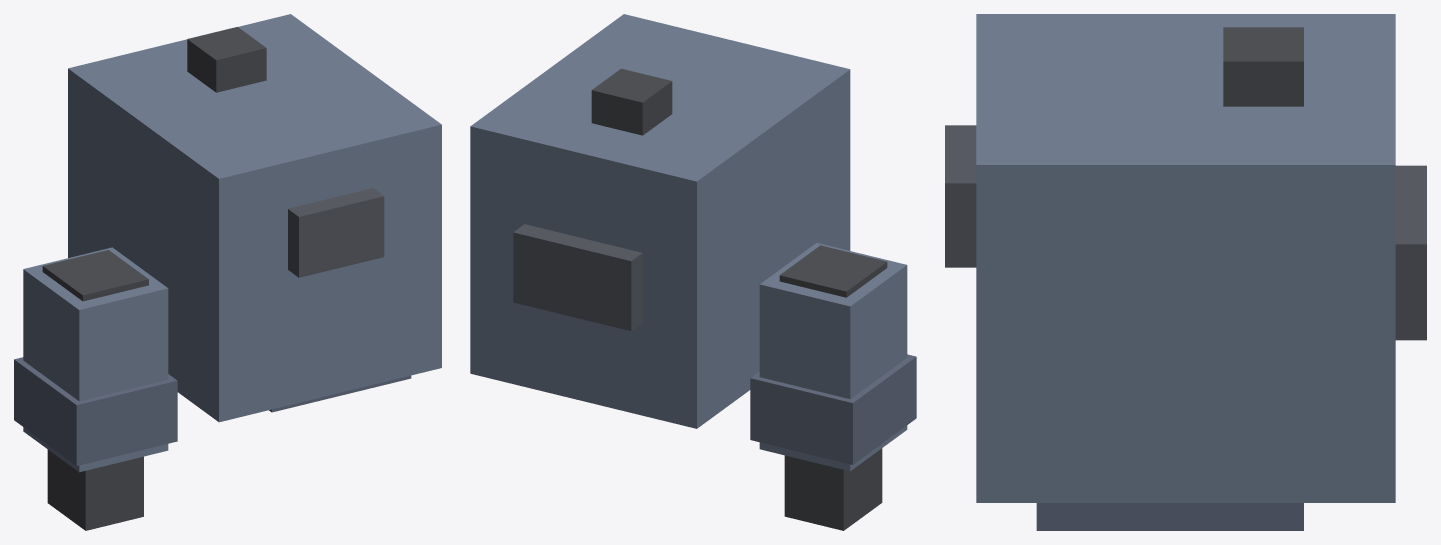
File: tankmech_arm_right.glb
3 views of the same model, side by side, from view 1: azimuth 30°, elevation 25°; view 2: azimuth 150°, elevation 25°; view 3: azimuth 270°, elevation 25° (orthographic). The views are drawn at different scales.
Visible parts, largest first — view 1: armR_pauldron, armR_forearm, armR_forearm_plate, armR_pauldron_vent_rear, armR_forearm_fist, armR_pauldron_thruster, armR_upper, armR_pauldron_skirt; view 2: armR_pauldron, armR_forearm, armR_forearm_plate, armR_pauldron_vent_front, armR_forearm_fist, armR_pauldron_thruster, armR_upper; view 3: armR_pauldron, armR_pauldron_skirt, armR_pauldron_thruster, armR_pauldron_vent_front, armR_pauldron_vent_rear.
Boxes of the visible parts, left/top/right/bottom form: armR_pauldron: left=68, top=14, right=441, bottom=422; armR_forearm: left=23, top=247, right=168, bottom=472; armR_forearm_plate: left=14, top=357, right=177, bottom=465; armR_pauldron_vent_rear: left=288, top=188, right=384, bottom=277; armR_forearm_fist: left=47, top=449, right=143, bottom=530; armR_pauldron_thruster: left=187, top=27, right=266, bottom=92; armR_upper: left=42, top=250, right=148, bottom=301; armR_pauldron_skirt: left=269, top=375, right=411, bottom=412; armR_pauldron: left=470, top=14, right=850, bottom=428; armR_forearm: left=759, top=243, right=907, bottom=471; armR_forearm_plate: left=750, top=354, right=916, bottom=464; armR_pauldron_vent_front: left=513, top=224, right=642, bottom=331; armR_forearm_fist: left=784, top=448, right=882, bottom=530; armR_pauldron_thruster: left=591, top=68, right=672, bottom=135; armR_upper: left=779, top=245, right=887, bottom=297; armR_pauldron: left=976, top=14, right=1395, bottom=502; armR_pauldron_skirt: left=1036, top=503, right=1303, bottom=530; armR_pauldron_thruster: left=1223, top=27, right=1303, bottom=106; armR_pauldron_vent_front: left=1395, top=165, right=1426, bottom=340; armR_pauldron_vent_rear: left=945, top=125, right=976, bottom=267.
Bounding box in the file's own units: 1.68 × 1.98 × 1.55.
